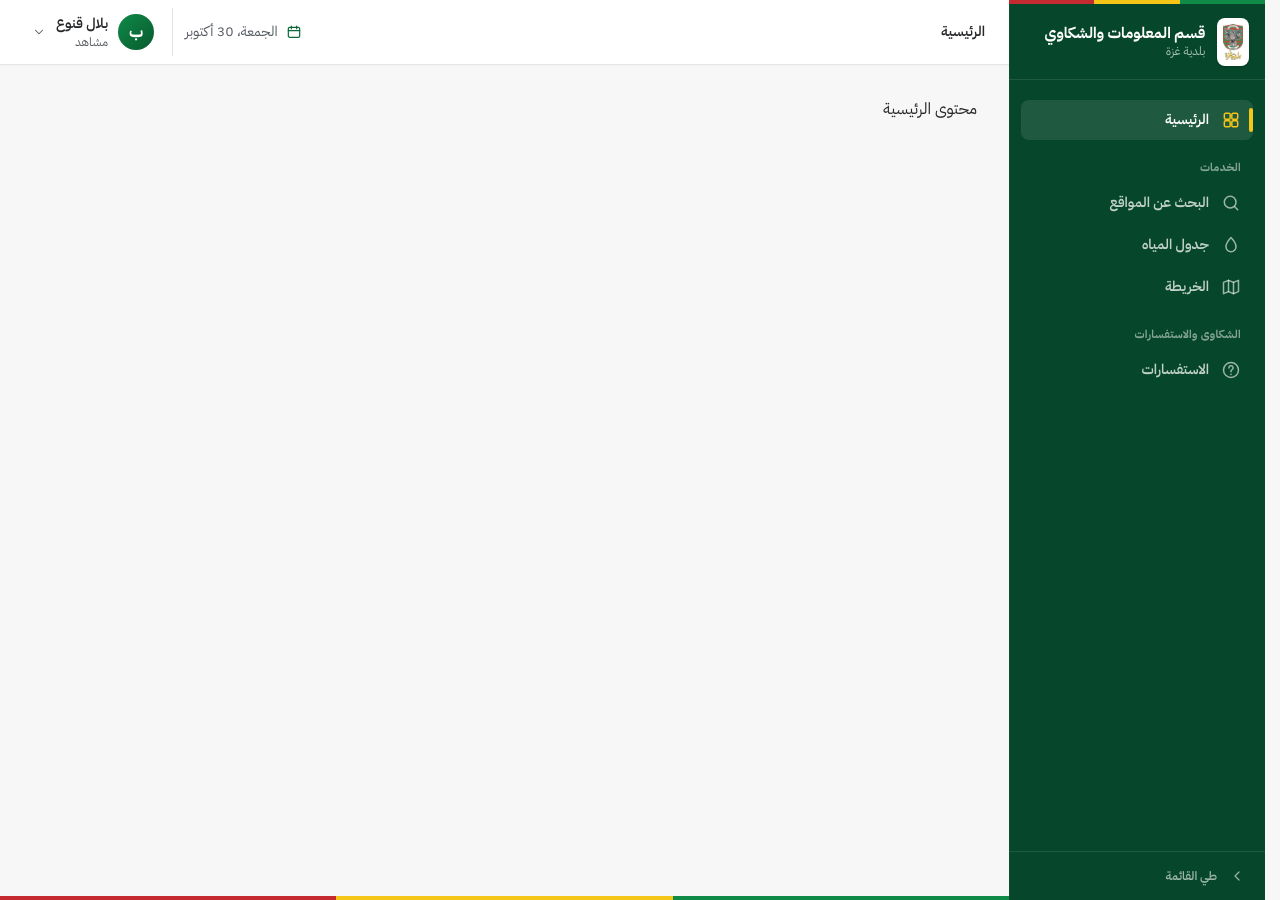
MainLayout › opens each new page at its top
This screenshot has width=1280, height=900.
Click the link "جدول المياه" at (1192, 244), box left=1142, top=234, right=1241, bottom=255
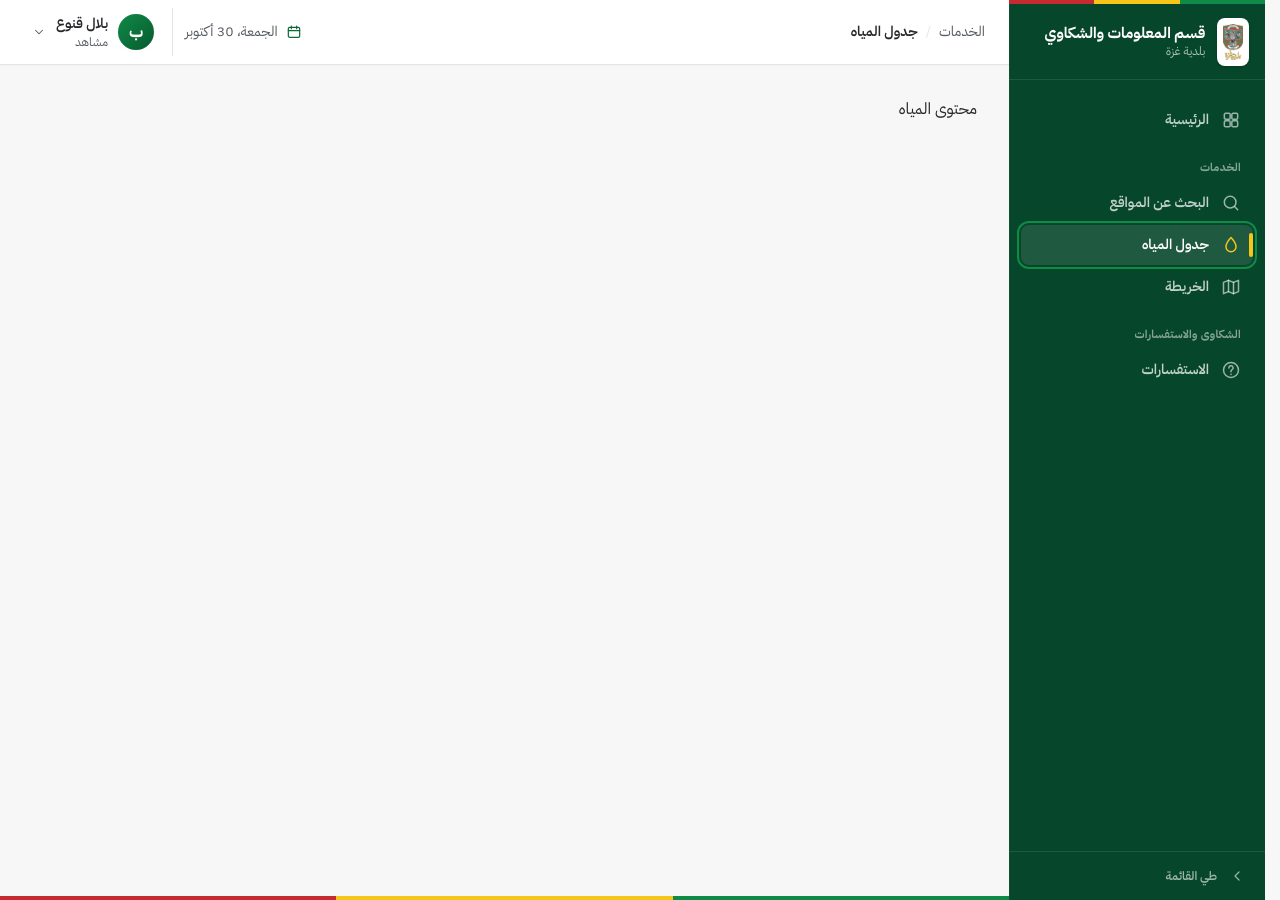
Expected: the text "محتوى المياه" is shown, left=898, top=97, right=977, bottom=121
